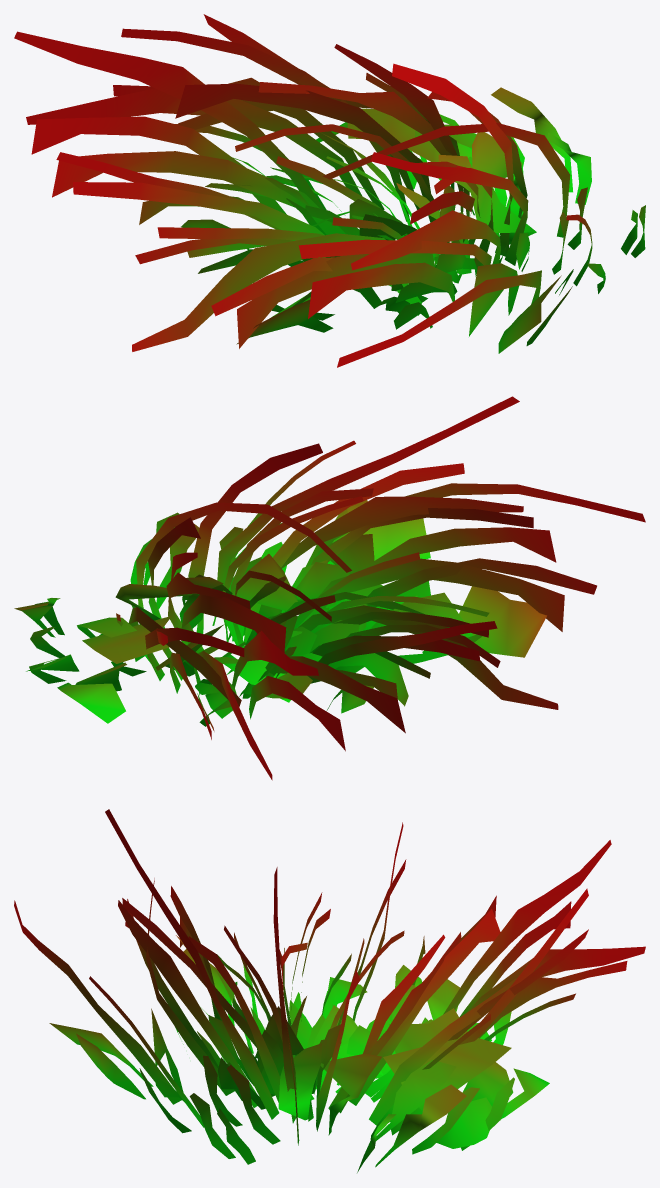
File: Var19_LOD1.fbx
3 views of the same model, one above another, from view 1: azimuth 30°, elevation 25°; view 2: azimuth 150°, elevation 25°; view 3: azimuth 270°, elevation 25° (orthographic). The views are drawn at different scales.
Parts seen in each view (by area): view 1: _5t4j_Var19_LOD1; view 2: _5t4j_Var19_LOD1; view 3: _5t4j_Var19_LOD1.
Boxes of the visible parts, <box> form: _5t4j_Var19_LOD1: <box>14,14,645,367</box>; _5t4j_Var19_LOD1: <box>14,396,645,780</box>; _5t4j_Var19_LOD1: <box>14,809,645,1172</box>.
Bounding box in the file's own units: 48.27 × 21.67 × 57.8.
